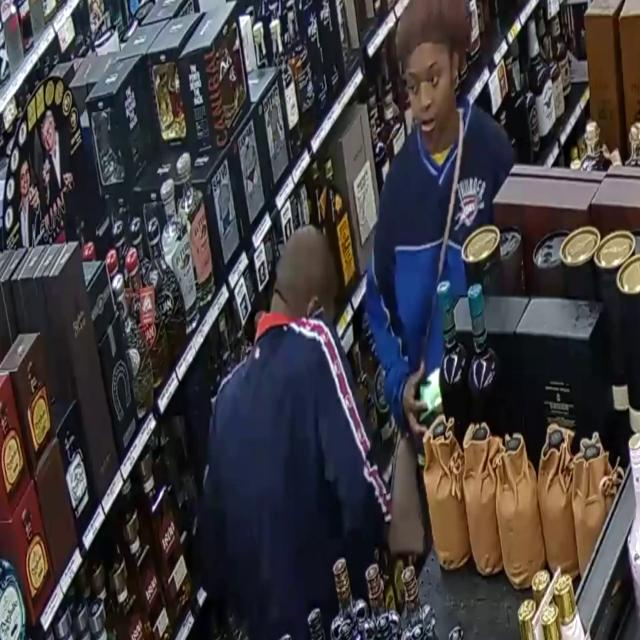Product: (397, 357, 452, 453)
shoplifting: (337, 0, 540, 557), (180, 220, 380, 640)
